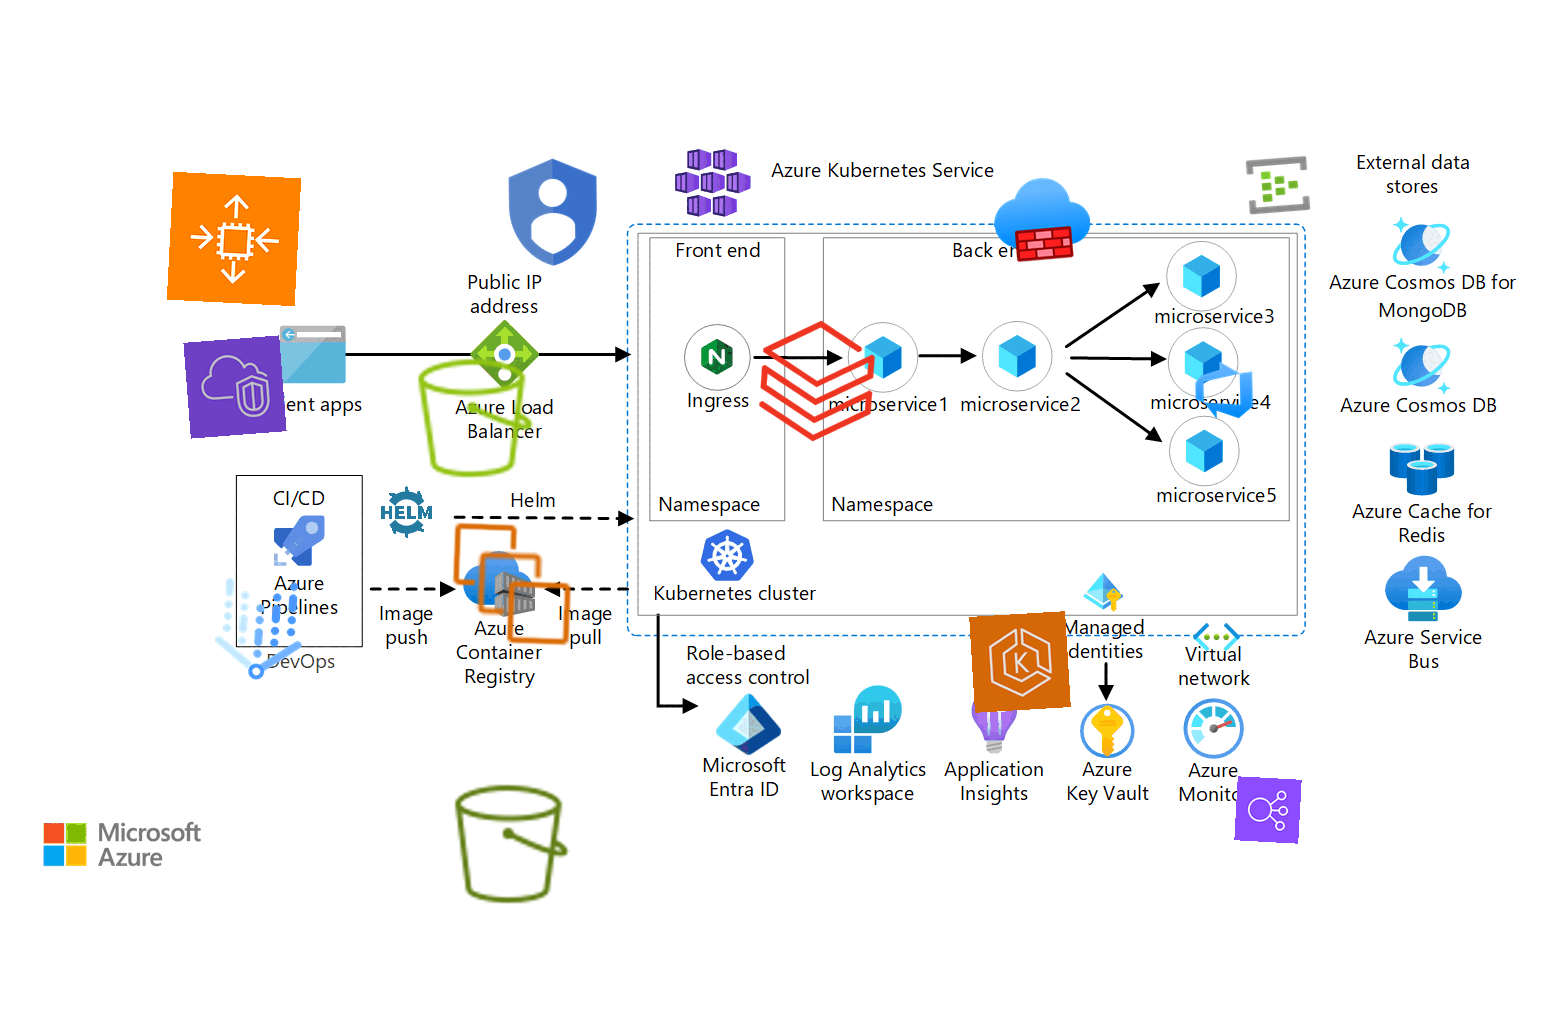aws_amazon_ec2_auto_scaling: (166, 171, 302, 307)
aws_amazon_elastic_kubernetes_service: (969, 611, 1071, 713)
aws_amazon_virtual_private_cloud: (183, 335, 286, 439)
aws_ec2_instances: (445, 517, 579, 651)
aws_elastic_load_balancing: (1234, 776, 1302, 844)
aws_simple_storage_service_bucket: (446, 779, 576, 909)
aws_simple_storage_service_s3_standard: (410, 353, 540, 483)
azure_databricks: (748, 312, 886, 450)
azure_devops: (1192, 356, 1257, 423)
azure_event_hubs: (1243, 150, 1313, 220)
azure_firewalls: (990, 167, 1094, 271)
gcp_identity_and_access_management: (488, 147, 618, 277)
gcp_vertex_ai: (190, 560, 328, 699)
